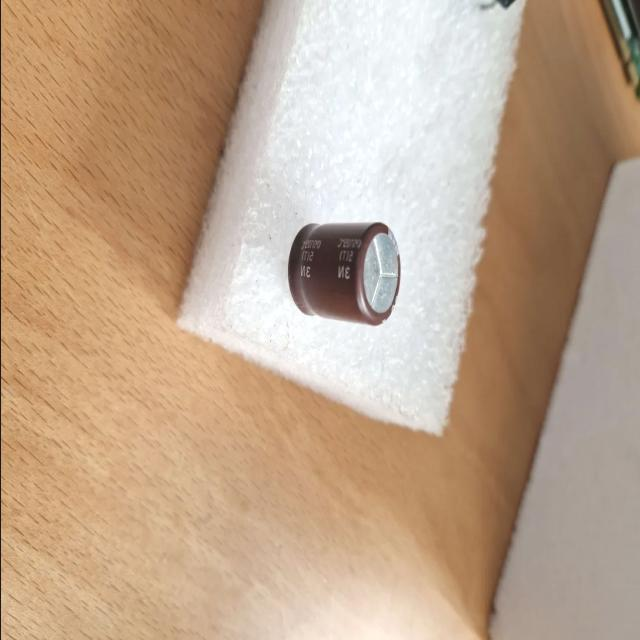C: (288, 222, 401, 324)
